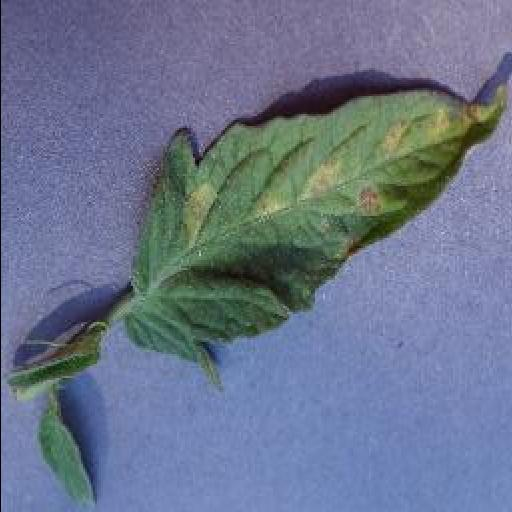disease_tomato: (122, 86, 510, 391)
